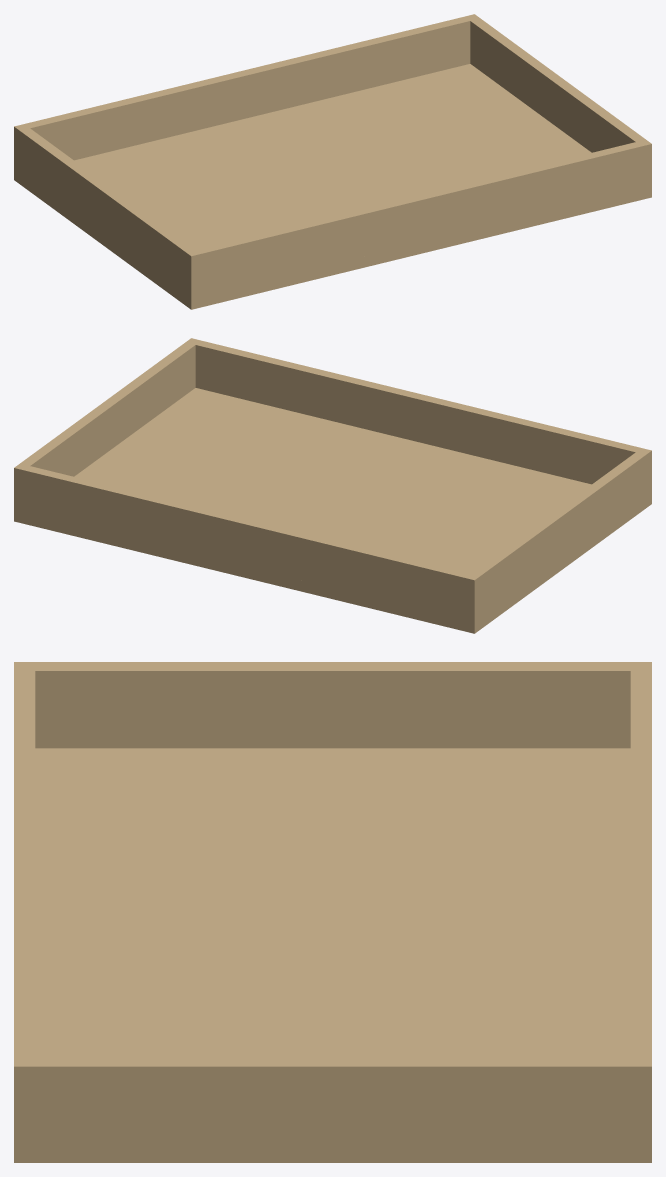
Rendered from LIT-TRY-std.glb.
The picture shows the model from 3 angles, top to bottom: view 1: azimuth 30°, elevation 25°; view 2: azimuth 150°, elevation 25°; view 3: azimuth 270°, elevation 25°; orthographic projection. The views are drawn at different scales.
Visible parts, largest first — view 1: LIT-TRY-std; view 2: LIT-TRY-std; view 3: LIT-TRY-std.
Part boxes in pixels (x1,y1,x2,y2): LIT-TRY-std: (14,14,651,309); LIT-TRY-std: (14,338,651,633); LIT-TRY-std: (14,662,651,1162).
Size of the model in its own units: 0.45 by 0.05 by 0.3.
